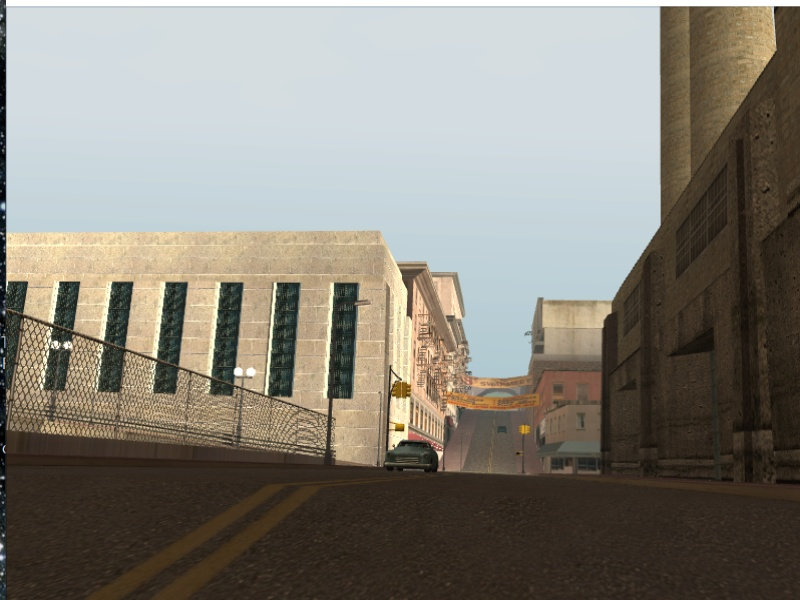pole: (387, 371, 391, 451)
vehicle: (383, 438, 444, 478)
